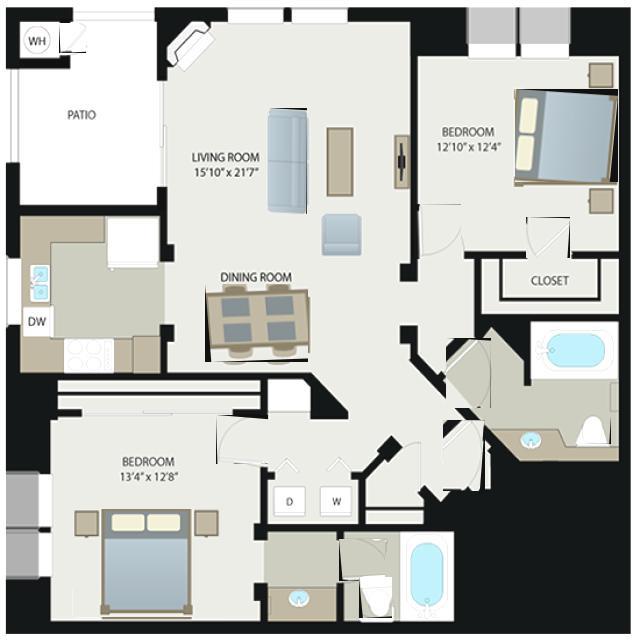bed: (73, 509, 220, 617), (515, 89, 618, 182)
door: (446, 338, 491, 408), (444, 420, 486, 491), (413, 204, 461, 258), (216, 415, 268, 464), (339, 539, 385, 581), (526, 217, 570, 258), (59, 23, 86, 53)
sofa: (268, 108, 307, 214)
table: (205, 284, 308, 362)
toilet: (359, 577, 392, 618), (575, 416, 611, 444)
